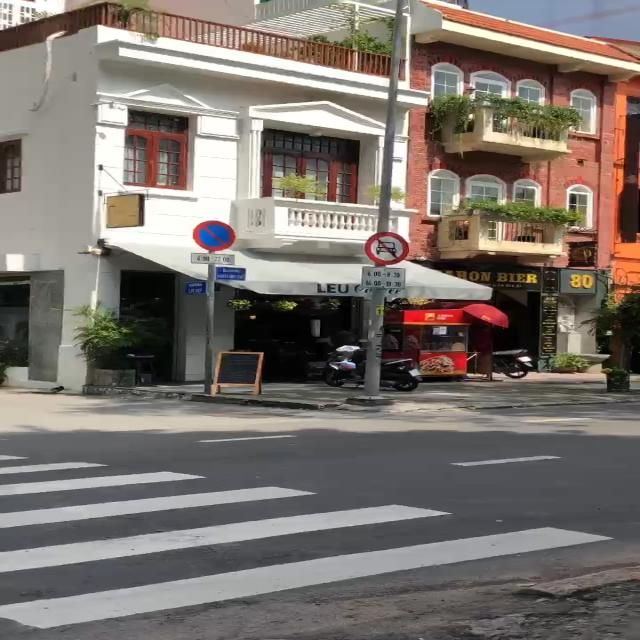Bien bao cam do xe: (187, 218, 239, 250)
Bien bao cam xe oto: (362, 228, 414, 268)
